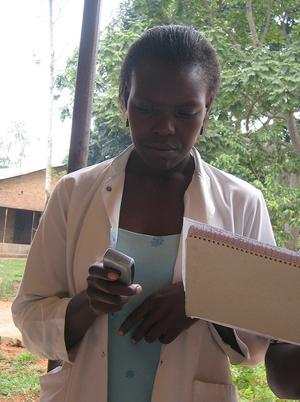person: (12, 26, 275, 399)
